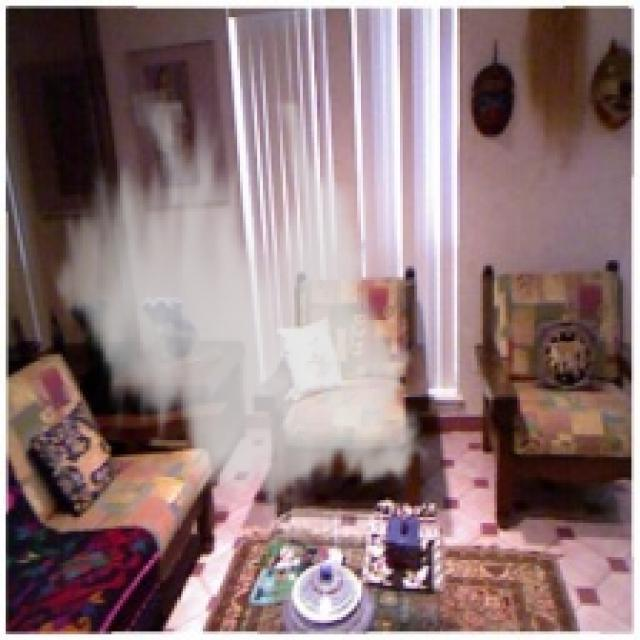Smoke: (43, 100, 440, 517)
